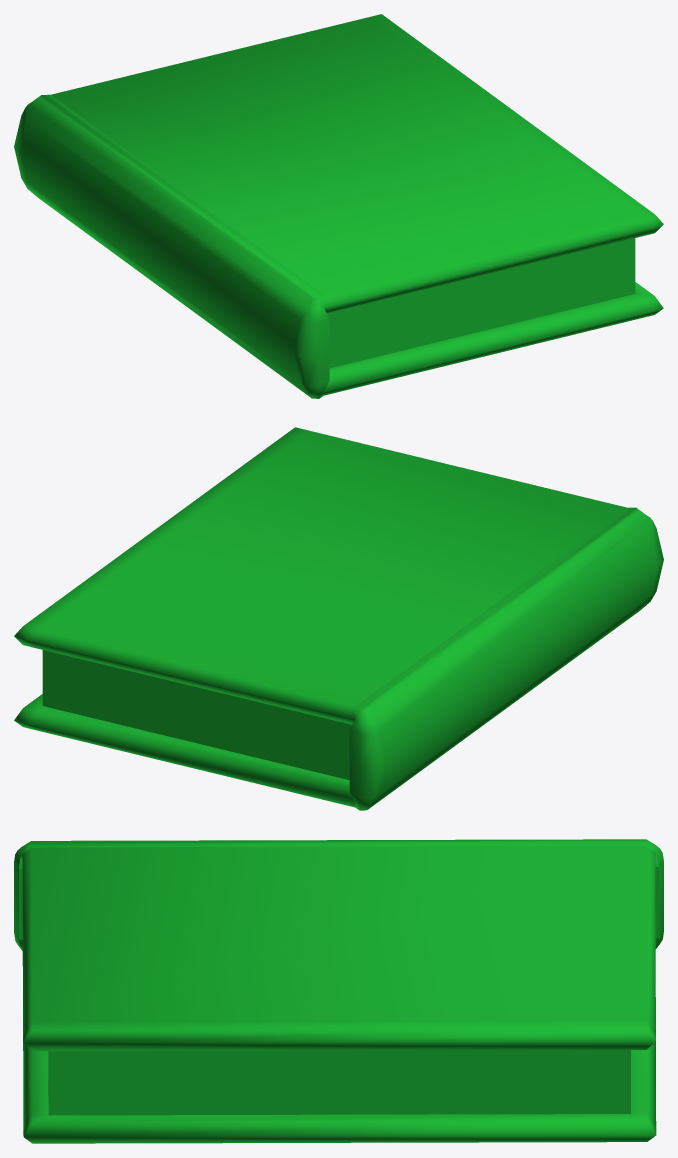
The model's file is Book.fbx.
3 renders of one model, top to bottom at view 1: azimuth 30°, elevation 25°; view 2: azimuth 150°, elevation 25°; view 3: azimuth 270°, elevation 25°, orthographic. The views are drawn at different scales.
Visible parts, largest first — view 1: Book; view 2: Book; view 3: Book.
Boxes of the visible parts, x1=… form: Book: x1=14, y1=14, x2=663, y2=398; Book: x1=14, y1=427, x2=663, y2=810; Book: x1=14, y1=839, x2=663, y2=1143.
Bounding box in the file's own units: 37.97 × 10.08 × 51.62.
